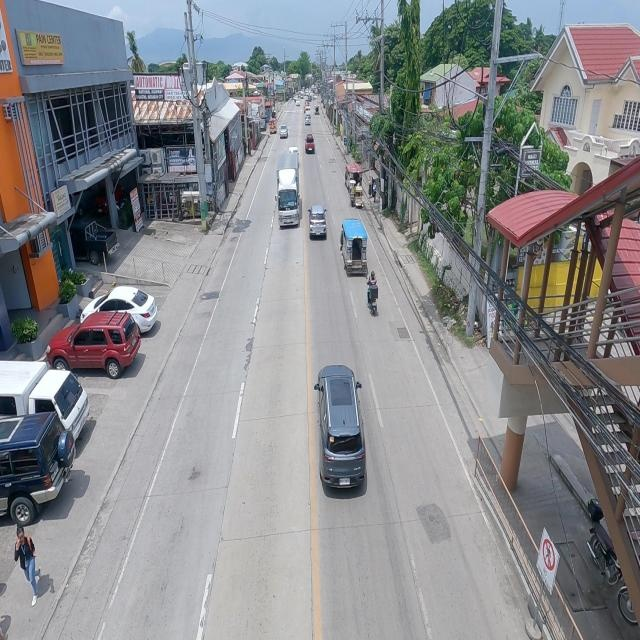Truck: (276, 153, 301, 226)
